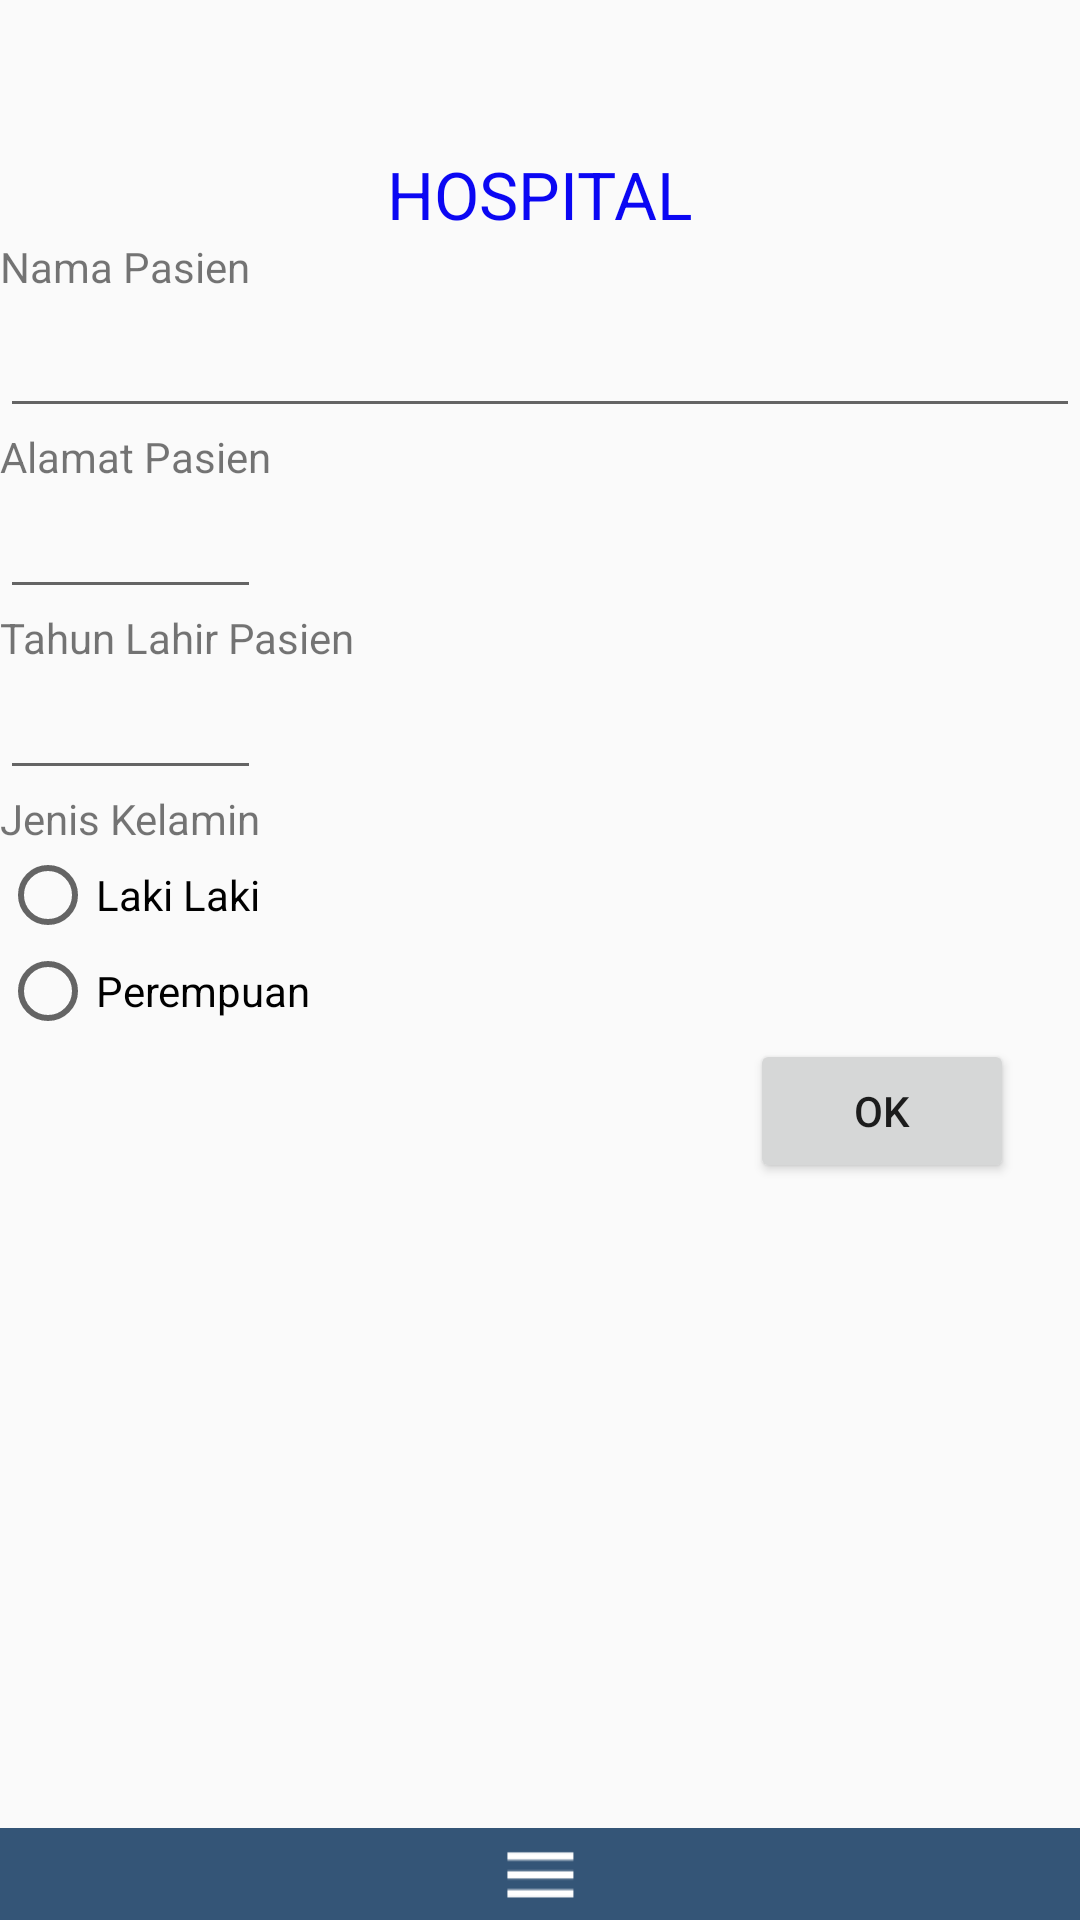

Named icons in this screenshot (1080 x 1920) and their centers, [x,y]:
hamburger: [540,1875]
